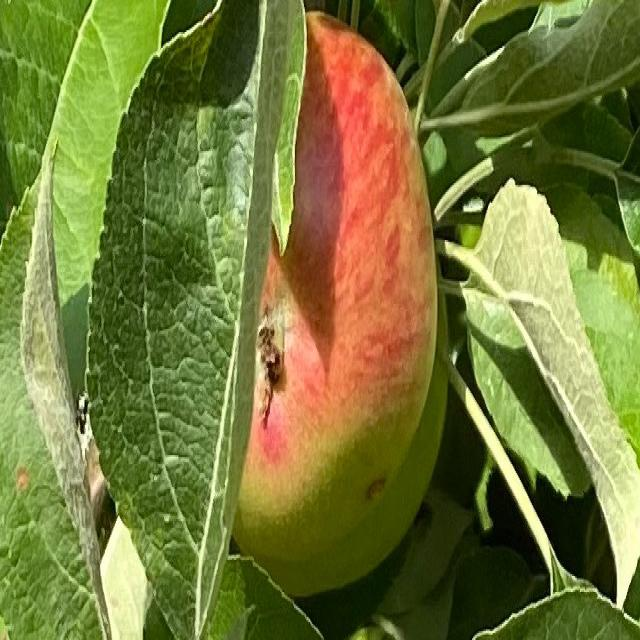Apples: (231, 11, 449, 599)
